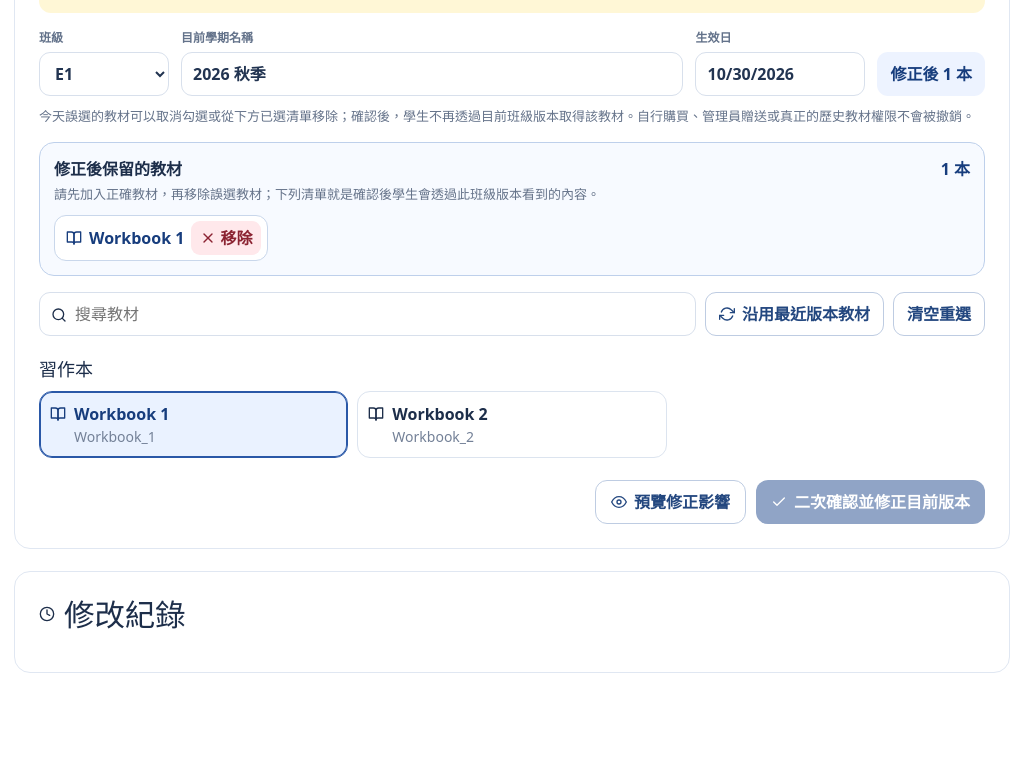
Test: AdminClassMaterials term rollover wizard › lets an administrator replace a mistakenly selected current book
This screenshot has width=1024, height=759.
(page scrolled)
Expected: the text "修正後保留的教材" is shown, [54, 158, 182, 180]
Click the checkbox labelled "Workbook 2 Workbook_2". click: x=512, y=424
box: [357, 391, 667, 458]
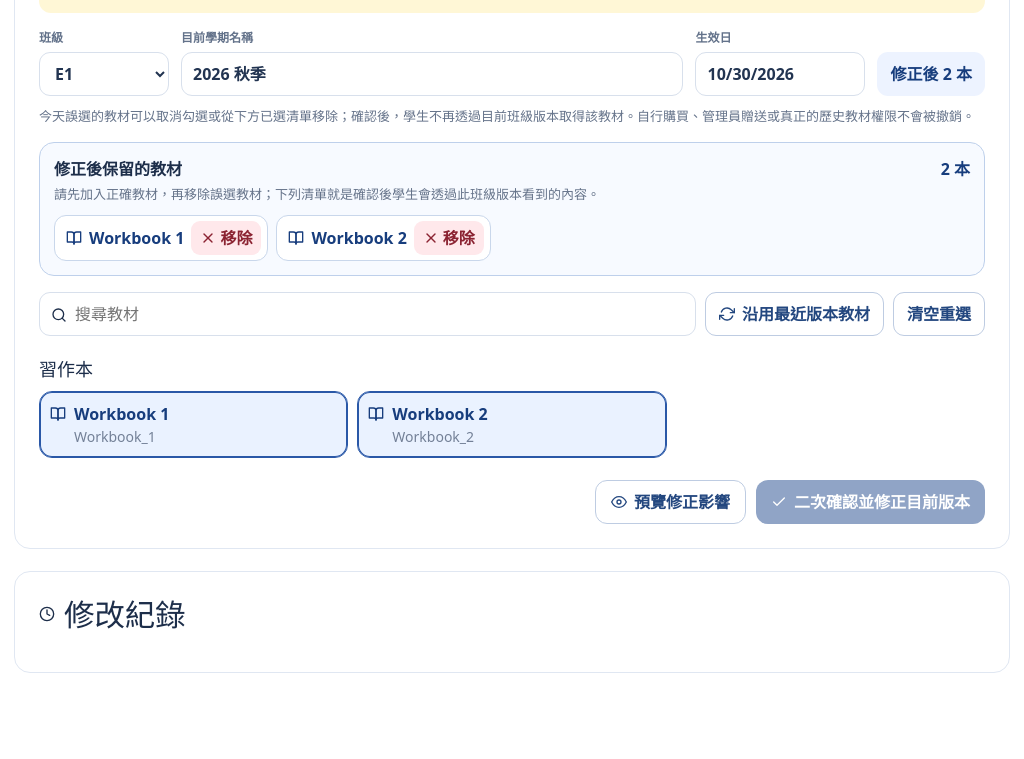
Click the button with aria-label "從本版本移除 Workbook 1". click: x=226, y=238
box: [191, 221, 261, 255]
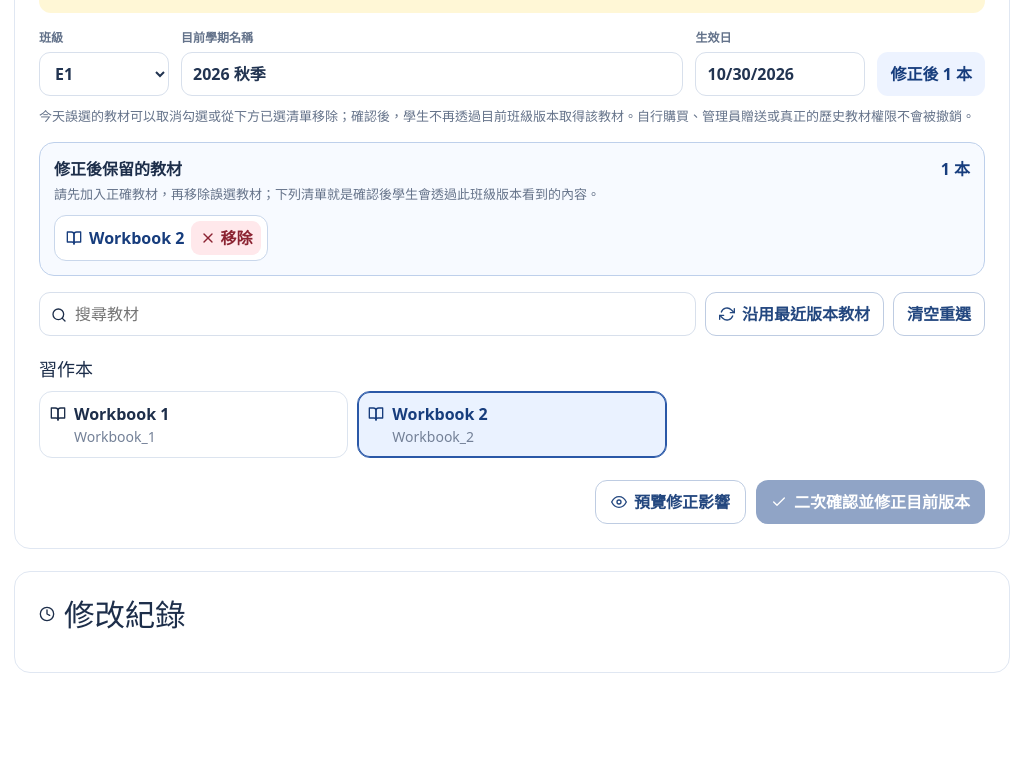
Click the button "預覽修正影響". click: x=670, y=502
box: [595, 480, 746, 524]
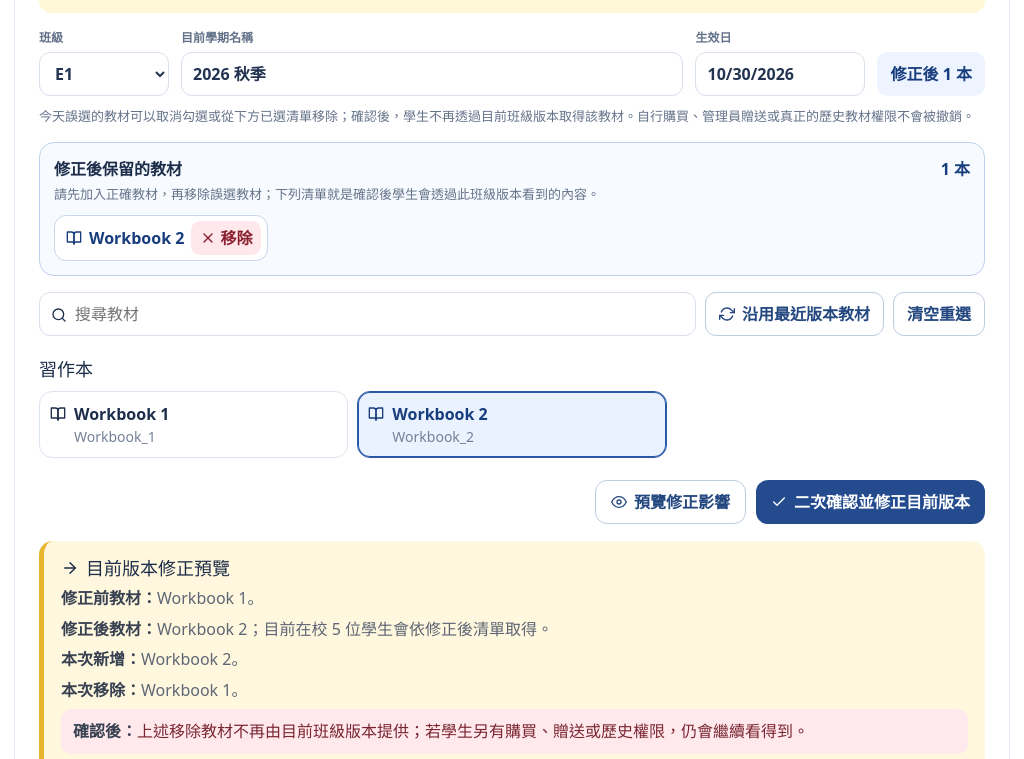
Now the text "確認後：上述移除教材不再由目前班級版本提供；若學生另有購買、贈送或歷史權限，仍會繼續看得到。" is shown, box [61, 709, 968, 754]
